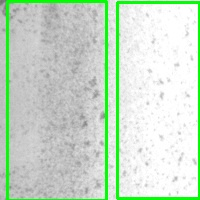pitted_surface: (7, 1, 106, 200), (117, 2, 199, 198)
